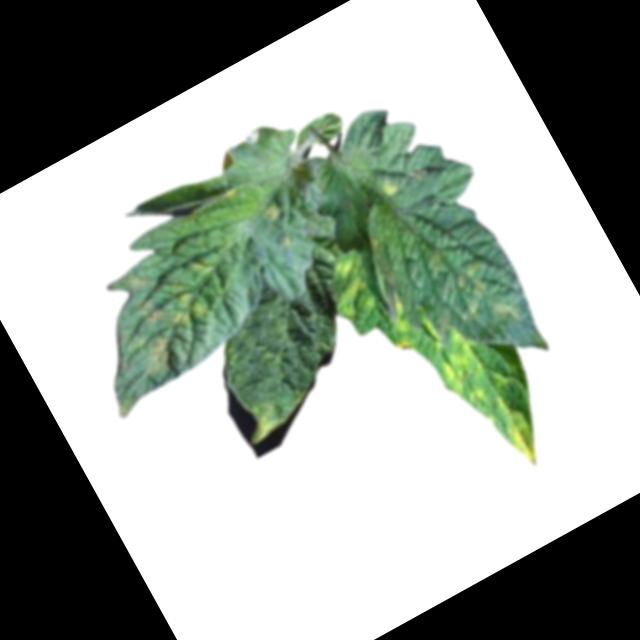Leaf_Mold: (151, 249, 240, 334), (428, 331, 502, 415), (496, 403, 552, 472), (241, 404, 291, 445), (369, 174, 401, 206), (260, 198, 288, 229), (392, 333, 420, 360)
